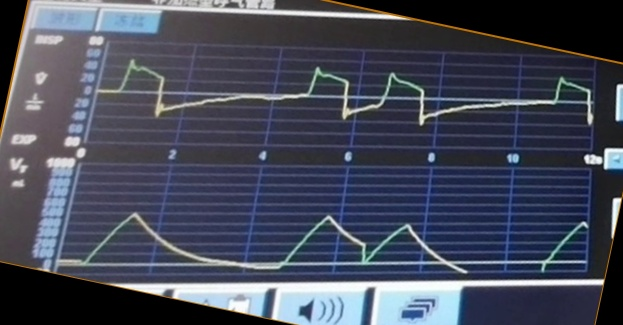Double_Triggering Flow: (104, 57, 592, 138)
Double_Triggering Volume: (72, 201, 585, 275)
